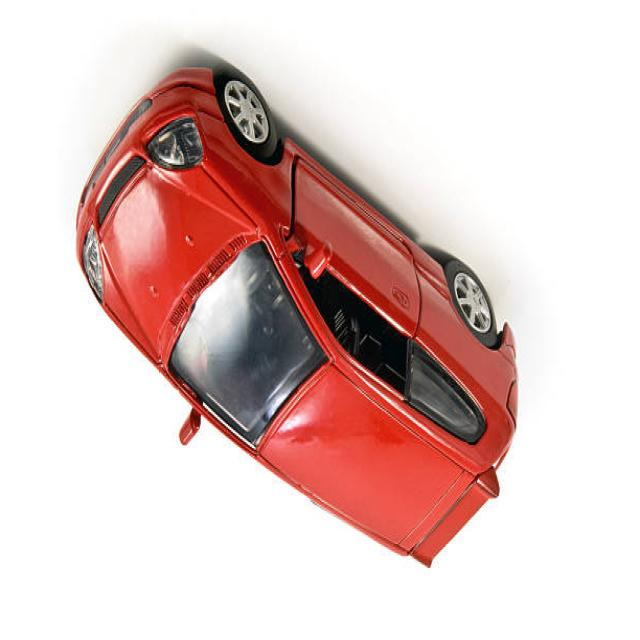Car: (75, 66, 520, 571)
